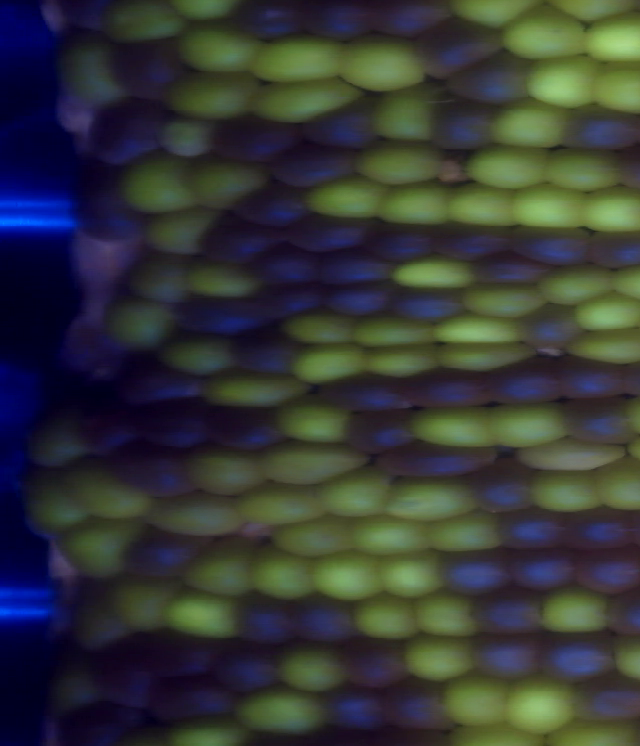fluorescent: (49, 23, 137, 114), (53, 453, 153, 527), (331, 29, 433, 101), (111, 145, 207, 218), (51, 511, 146, 584), (170, 14, 276, 79), (251, 436, 376, 491), (191, 366, 324, 417), (246, 27, 353, 89), (226, 681, 341, 738), (173, 153, 276, 216), (242, 74, 366, 126), (133, 488, 250, 543), (13, 464, 92, 545), (494, 2, 592, 65), (454, 137, 560, 195), (178, 439, 274, 502), (349, 134, 453, 192), (380, 472, 490, 526), (273, 391, 369, 452), (160, 67, 263, 123), (520, 47, 606, 114), (93, 294, 187, 355), (480, 397, 578, 455), (121, 246, 207, 312), (232, 479, 340, 531), (403, 398, 501, 455), (271, 635, 361, 697), (92, 576, 188, 634), (176, 539, 260, 605), (133, 202, 223, 263), (431, 672, 522, 732), (497, 672, 582, 736), (311, 465, 400, 525), (484, 93, 571, 154), (20, 406, 98, 474), (244, 539, 323, 606), (367, 81, 447, 147), (537, 142, 633, 197), (532, 259, 626, 315), (157, 585, 243, 646), (522, 464, 613, 521), (280, 338, 376, 392), (307, 546, 393, 606), (149, 327, 244, 381), (429, 332, 541, 377), (397, 629, 487, 685), (303, 172, 393, 227), (443, 176, 524, 237), (344, 509, 439, 561), (268, 512, 363, 564), (369, 546, 452, 605), (97, 1, 193, 52), (507, 176, 593, 232), (344, 587, 424, 646), (174, 253, 271, 301), (426, 305, 534, 348), (531, 582, 614, 637), (341, 307, 444, 351), (457, 281, 560, 324), (387, 249, 481, 296), (369, 178, 452, 231), (407, 586, 483, 643), (424, 507, 509, 556), (278, 304, 368, 348), (156, 707, 257, 746), (357, 341, 450, 382), (559, 324, 640, 371), (574, 181, 640, 238), (577, 9, 640, 68), (586, 55, 640, 123), (442, 1, 546, 35), (151, 114, 221, 163), (571, 288, 640, 336), (590, 455, 640, 517), (604, 626, 640, 697), (546, 1, 640, 27), (607, 256, 640, 309)
nonfluorescent: (66, 157, 149, 251), (368, 433, 499, 488), (408, 14, 513, 82), (81, 629, 168, 711), (439, 48, 546, 112), (82, 92, 172, 167), (102, 441, 202, 506), (103, 33, 193, 105), (130, 389, 228, 455), (533, 623, 626, 692), (300, 84, 390, 155), (190, 209, 288, 273), (112, 527, 217, 585), (372, 669, 462, 736), (476, 349, 571, 412), (263, 139, 369, 194), (197, 396, 292, 457), (209, 112, 303, 173), (396, 363, 502, 417), (202, 634, 286, 702), (50, 696, 163, 746), (67, 391, 147, 461), (144, 672, 244, 728), (461, 626, 551, 688), (317, 675, 395, 746), (310, 368, 418, 419), (108, 355, 211, 408), (139, 622, 223, 686), (466, 449, 542, 519), (217, 323, 307, 382), (431, 542, 519, 602), (170, 291, 274, 341), (222, 586, 300, 652), (336, 631, 416, 695), (559, 393, 640, 456), (280, 209, 388, 256), (281, 585, 364, 646), (497, 539, 580, 599), (427, 88, 500, 156), (464, 579, 548, 637), (554, 501, 640, 557), (512, 219, 597, 275), (554, 99, 640, 154), (382, 283, 477, 332), (339, 406, 422, 462), (512, 301, 593, 358), (490, 502, 574, 556), (241, 241, 328, 293), (566, 668, 640, 729), (567, 543, 640, 604), (232, 181, 316, 234), (363, 1, 456, 48), (424, 218, 517, 265), (230, 283, 334, 325), (310, 245, 404, 291), (223, 1, 316, 46), (556, 352, 634, 405), (468, 248, 558, 293), (362, 215, 439, 266), (303, 1, 383, 47), (320, 279, 398, 325), (579, 224, 640, 276), (603, 584, 640, 641), (610, 142, 640, 197)
